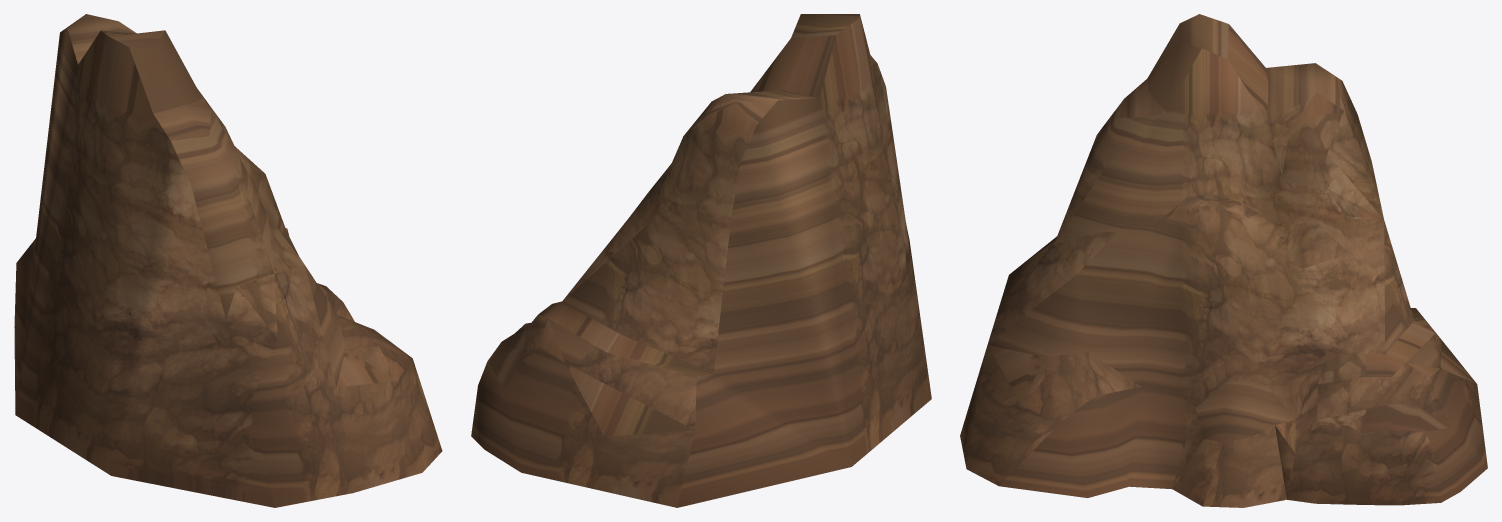
File: handan_field_d_i01a.fbx
The picture shows the model from 3 angles, left to right: view 1: azimuth 30°, elevation 25°; view 2: azimuth 150°, elevation 25°; view 3: azimuth 270°, elevation 25°; orthographic projection. The views are drawn at different scales.
Parts seen in each view (by area): view 1: handan_field_d_i01a; view 2: handan_field_d_i01a; view 3: handan_field_d_i01a.
Part boxes in pixels (x1=…): handan_field_d_i01a: x1=14, y1=14, x2=442, y2=507; handan_field_d_i01a: x1=471, y1=14, x2=931, y2=507; handan_field_d_i01a: x1=960, y1=14, x2=1487, y2=507.
Size of the model in its own units: 3991 by 4868 by 6118.
